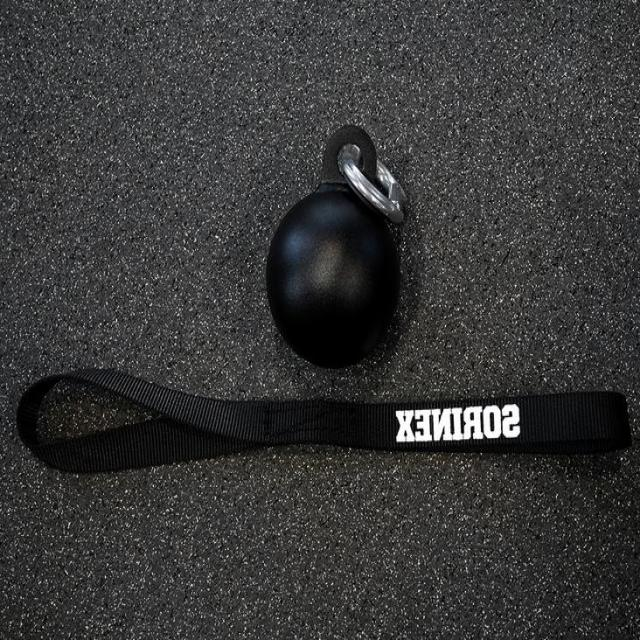grenade: (266, 127, 408, 370)
